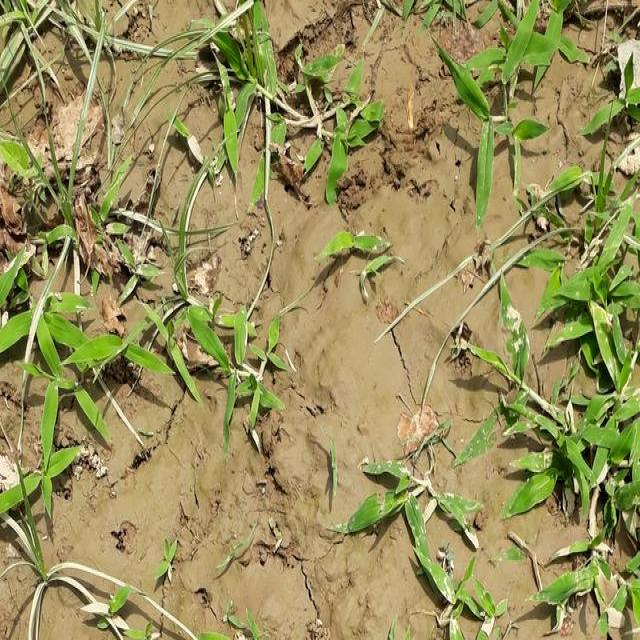weed: (0, 212, 278, 453), (517, 146, 640, 640), (190, 0, 380, 201), (443, 0, 561, 203)
